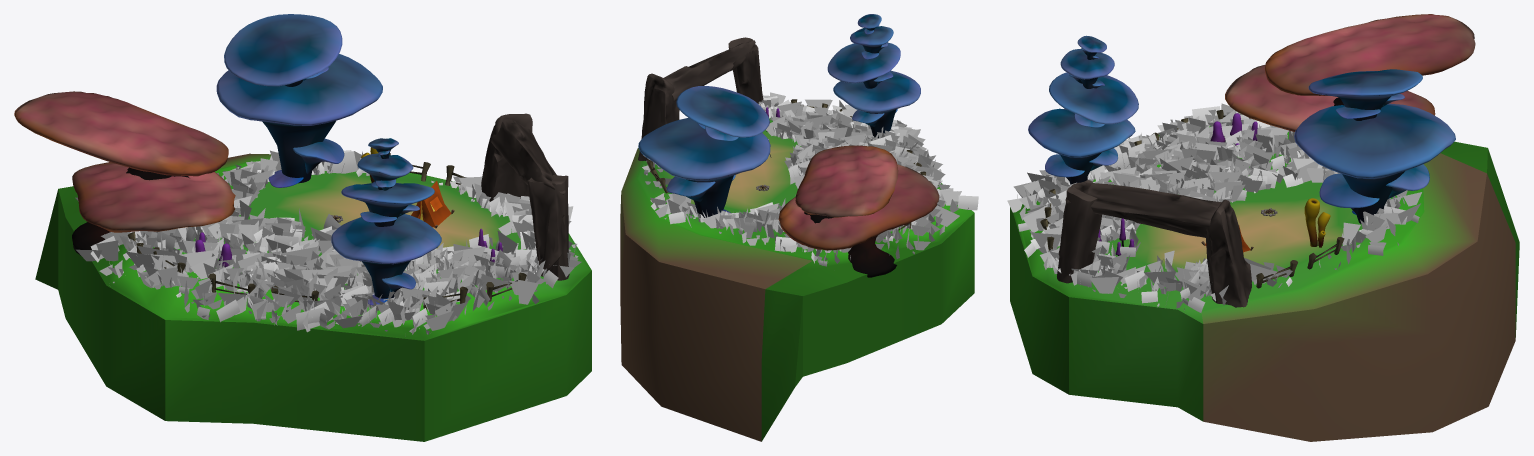
Rendered from env_mdl_painterly.glb.
3 renders of one model, left to right at view 1: azimuth 30°, elevation 25°; view 2: azimuth 150°, elevation 25°; view 3: azimuth 270°, elevation 25°, orthographic. The views are drawn at different scales.
Parts seen in each view (by area): view 1: base_shader_nm_#FF66JS#37.001, shroom-orange.004_shader_nm_#FF66JS#37.002, shroom-blue.005_shader_nm_#FF66JS#37.001, shroom-orange.004_shader_nm_#FF66JS#37.001, shroom-blue.005_shader_nm_#FF66JS#37.002, shroom-blue.005_shader_nm_#FF66JS#37.003, rock.029_shader_nm_#FF66JS#37.003, shroom-blue.005_shader_nm_#FF66JS#37.004, rock.029_shader_nm_#FF66JS#37.001, rock.029_shader_nm_#FF66JS#37.002, shroom-blue.005_shader_nm_#FF66JS#37.005, tent.002_shader_nm_#FF66JS#37.001; view 2: base_shader_nm_#FF66JS#37.001, shroom-blue.005_shader_nm_#FF66JS#37.001, shroom-orange.004_shader_nm_#FF66JS#37.001, shroom-orange.004_shader_nm_#FF66JS#37.002, shroom-blue.005_shader_nm_#FF66JS#37.002, shroom-blue.005_shader_nm_#FF66JS#37.003, shroom-blue.005_shader_nm_#FF66JS#37.004, rock.029_shader_nm_#FF66JS#37.001, rock.029_shader_nm_#FF66JS#37.002, rock.029_shader_nm_#FF66JS#37.003, shroom-blue.005_shader_nm_#FF66JS#37.005; view 3: base_shader_nm_#FF66JS#37.001, shroom-blue.005_shader_nm_#FF66JS#37.001, shroom-orange.004_shader_nm_#FF66JS#37.002, shroom-blue.005_shader_nm_#FF66JS#37.003, rock.029_shader_nm_#FF66JS#37.001, shroom-orange.004_shader_nm_#FF66JS#37.001, shroom-blue.005_shader_nm_#FF66JS#37.002, rock.029_shader_nm_#FF66JS#37.002, shroom-blue.005_shader_nm_#FF66JS#37.004, rock.029_shader_nm_#FF66JS#37.003, shroom-blue.005_shader_nm_#FF66JS#37.005, shroom-yellow.004_shader_nm_#FF66JS#37.001.
Boxes of the visible parts, x1,y1,x2,y2 form: base_shader_nm_#FF66JS#37.001: [35, 153, 591, 441]; shroom-orange.004_shader_nm_#FF66JS#37.002: [14, 91, 228, 180]; shroom-blue.005_shader_nm_#FF66JS#37.001: [216, 53, 382, 187]; shroom-orange.004_shader_nm_#FF66JS#37.001: [72, 162, 235, 255]; shroom-blue.005_shader_nm_#FF66JS#37.002: [224, 14, 342, 86]; shroom-blue.005_shader_nm_#FF66JS#37.003: [331, 214, 441, 305]; rock.029_shader_nm_#FF66JS#37.003: [527, 175, 569, 280]; shroom-blue.005_shader_nm_#FF66JS#37.004: [341, 183, 434, 226]; rock.029_shader_nm_#FF66JS#37.001: [491, 119, 565, 194]; rock.029_shader_nm_#FF66JS#37.002: [481, 113, 532, 201]; shroom-blue.005_shader_nm_#FF66JS#37.005: [357, 153, 413, 190]; tent.002_shader_nm_#FF66JS#37.001: [411, 181, 454, 228]; base_shader_nm_#FF66JS#37.001: [620, 118, 974, 441]; shroom-blue.005_shader_nm_#FF66JS#37.001: [638, 117, 770, 217]; shroom-orange.004_shader_nm_#FF66JS#37.001: [778, 164, 939, 277]; shroom-orange.004_shader_nm_#FF66JS#37.002: [795, 145, 898, 223]; shroom-blue.005_shader_nm_#FF66JS#37.002: [676, 86, 769, 140]; shroom-blue.005_shader_nm_#FF66JS#37.003: [833, 70, 920, 137]; shroom-blue.005_shader_nm_#FF66JS#37.004: [827, 42, 900, 88]; rock.029_shader_nm_#FF66JS#37.001: [663, 40, 755, 102]; rock.029_shader_nm_#FF66JS#37.002: [638, 73, 679, 160]; rock.029_shader_nm_#FF66JS#37.003: [728, 37, 763, 103]; shroom-blue.005_shader_nm_#FF66JS#37.005: [850, 26, 893, 59]; base_shader_nm_#FF66JS#37.001: [1010, 126, 1519, 441]; shroom-blue.005_shader_nm_#FF66JS#37.001: [1294, 103, 1455, 223]; shroom-orange.004_shader_nm_#FF66JS#37.002: [1264, 14, 1475, 105]; shroom-blue.005_shader_nm_#FF66JS#37.003: [1028, 108, 1135, 184]; rock.029_shader_nm_#FF66JS#37.001: [1065, 182, 1221, 237]; shroom-orange.004_shader_nm_#FF66JS#37.001: [1225, 65, 1435, 131]; shroom-blue.005_shader_nm_#FF66JS#37.002: [1308, 69, 1422, 120]; rock.029_shader_nm_#FF66JS#37.002: [1206, 199, 1251, 307]; shroom-blue.005_shader_nm_#FF66JS#37.004: [1049, 72, 1138, 127]; rock.029_shader_nm_#FF66JS#37.003: [1057, 180, 1101, 283]; shroom-blue.005_shader_nm_#FF66JS#37.005: [1060, 49, 1114, 88]; shroom-yellow.004_shader_nm_#FF66JS#37.001: [1304, 198, 1330, 247].
Bounding box in the file's own units: 40.02 × 31.8 × 43.46.
